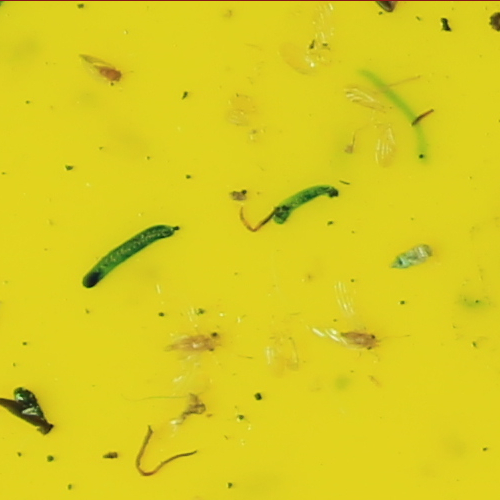Glycaspis: (168, 332, 232, 352), (339, 328, 385, 354)
Platyobria: (91, 64, 124, 81)
